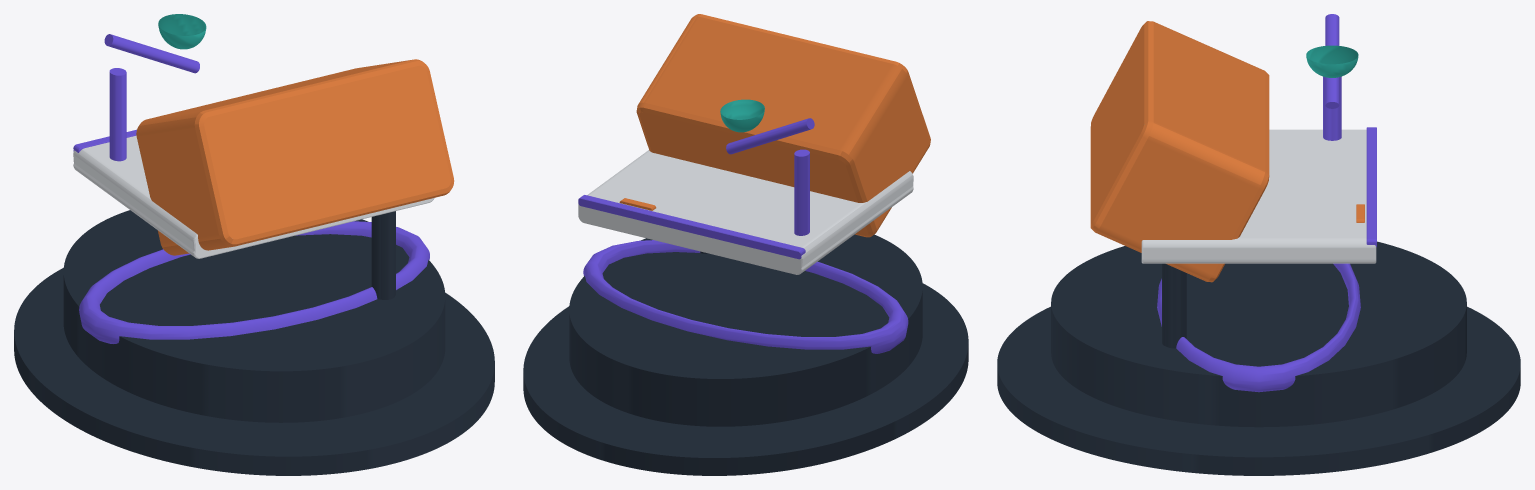
File: 0463_机械图鉴_机械手表.glb
3 views of the same model, side by side, from view 1: azimuth 30°, elevation 25°; view 2: azimuth 150°, elevation 25°; view 3: azimuth 270°, elevation 25° (orthographic). The views are drawn at different scales.
Visible parts, largest first — view 1: card_0463; view 2: card_0463; view 3: card_0463.
Part boxes in pixels (left/top/right/bottom): card_0463: left=14, top=14, right=494, bottom=475; card_0463: left=523, top=14, right=968, bottom=475; card_0463: left=997, top=14, right=1520, bottom=475.
Bounding box in the file's own units: 1.26 × 1 × 1.49.
